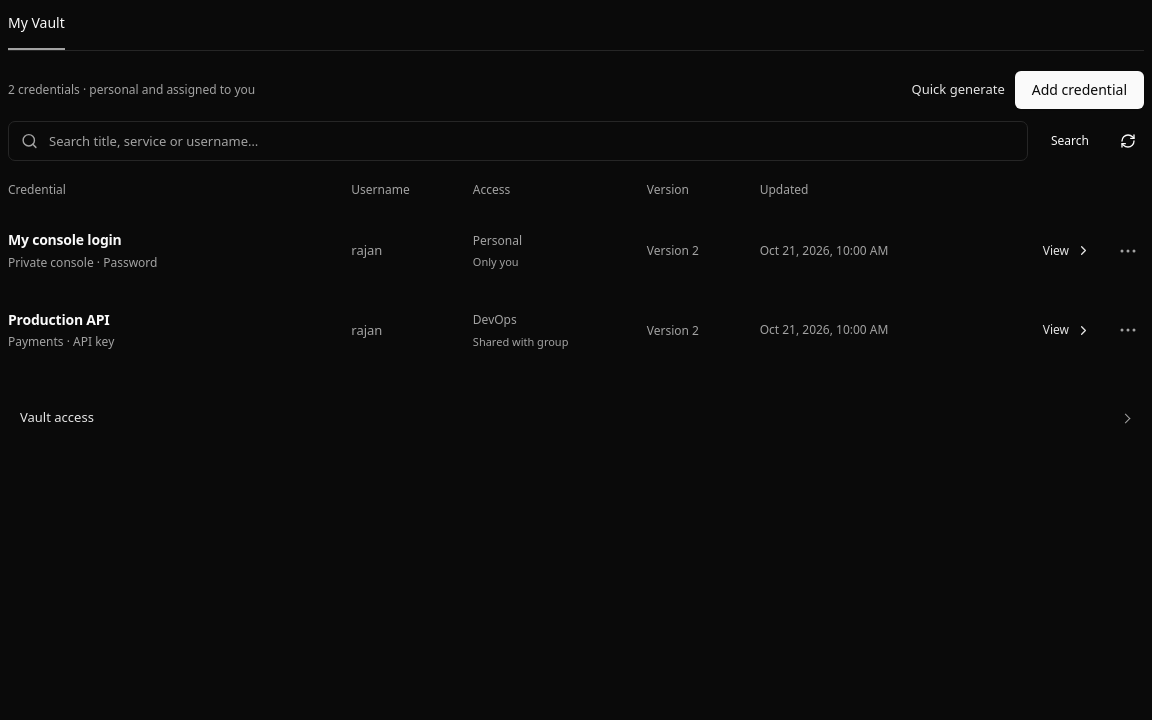
it: Tunnex Vault › shows the generated password directly and persists before copying it
This screenshot has width=1152, height=720.
Expected: the button "My console login" is shown, [8,230,122,250]
Click the button "Quick generate" at (958, 90), box [912,80,1005,100]
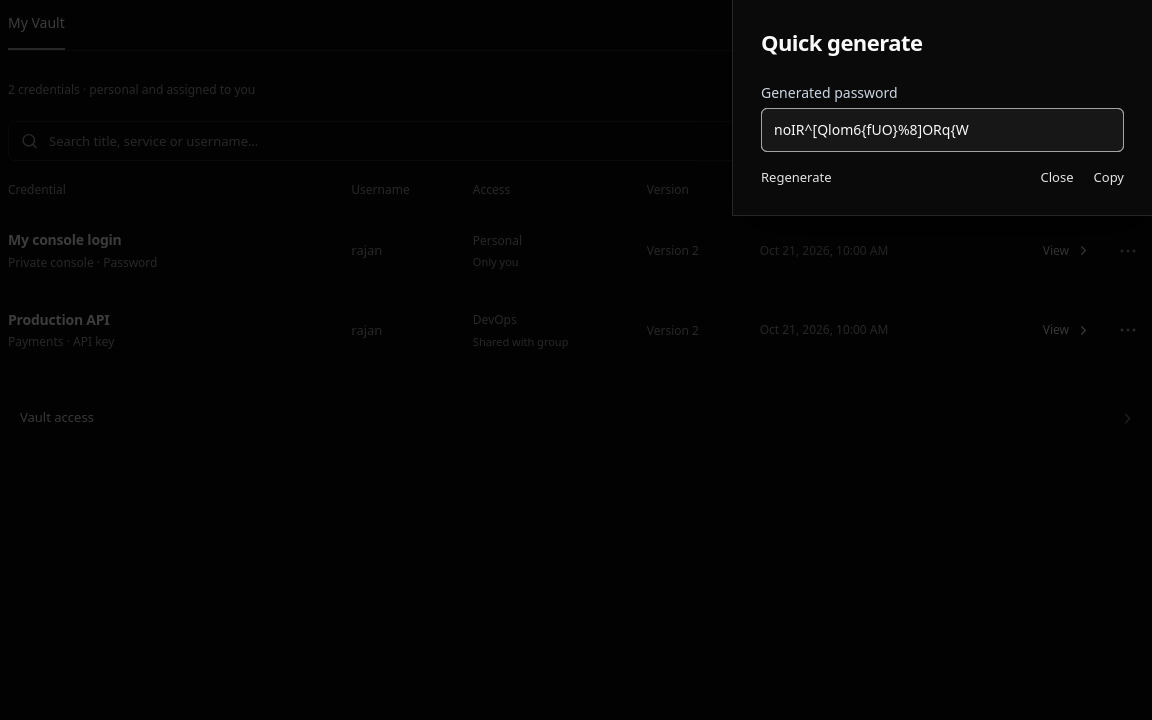
Expected: the number of fields is 1, [761,108,1124,152]
Click the button "Copy" at (1109, 177), box [1094,168,1124,187]
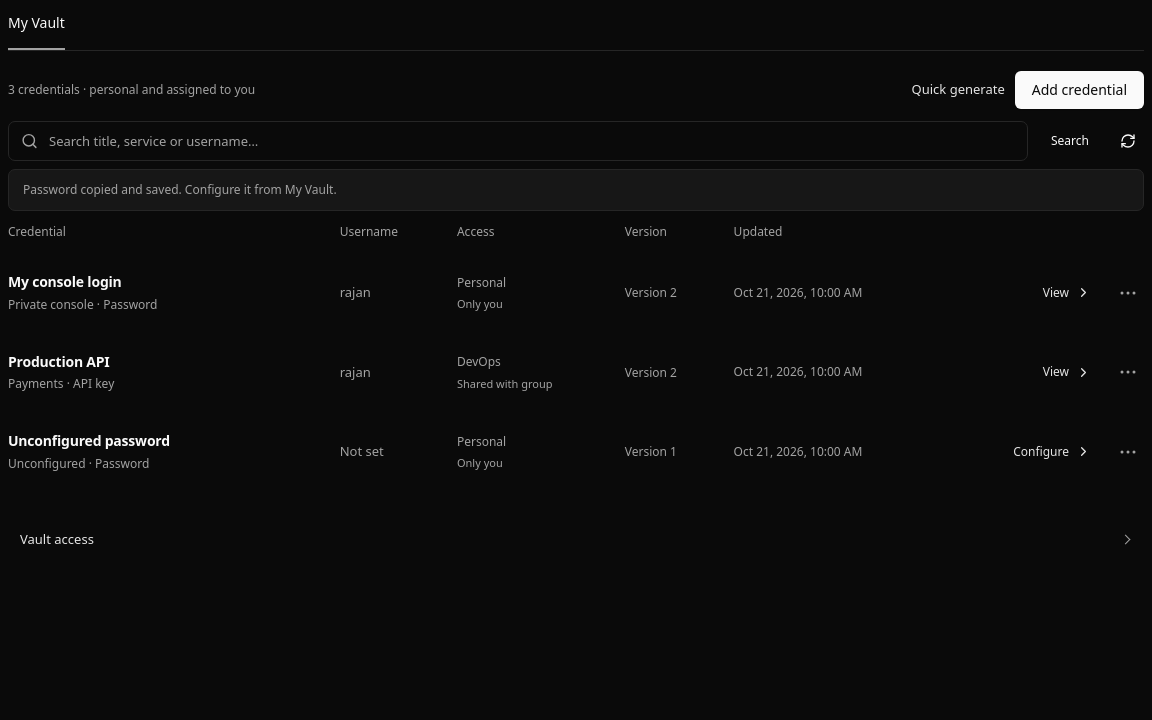
Expected: the button with aria-label "Configure Unconfigured password" is shown, [1002,435,1102,469]
Expected: the dialog is gone
Expected: the message shows "copied and saved", [23,181,337,198]
